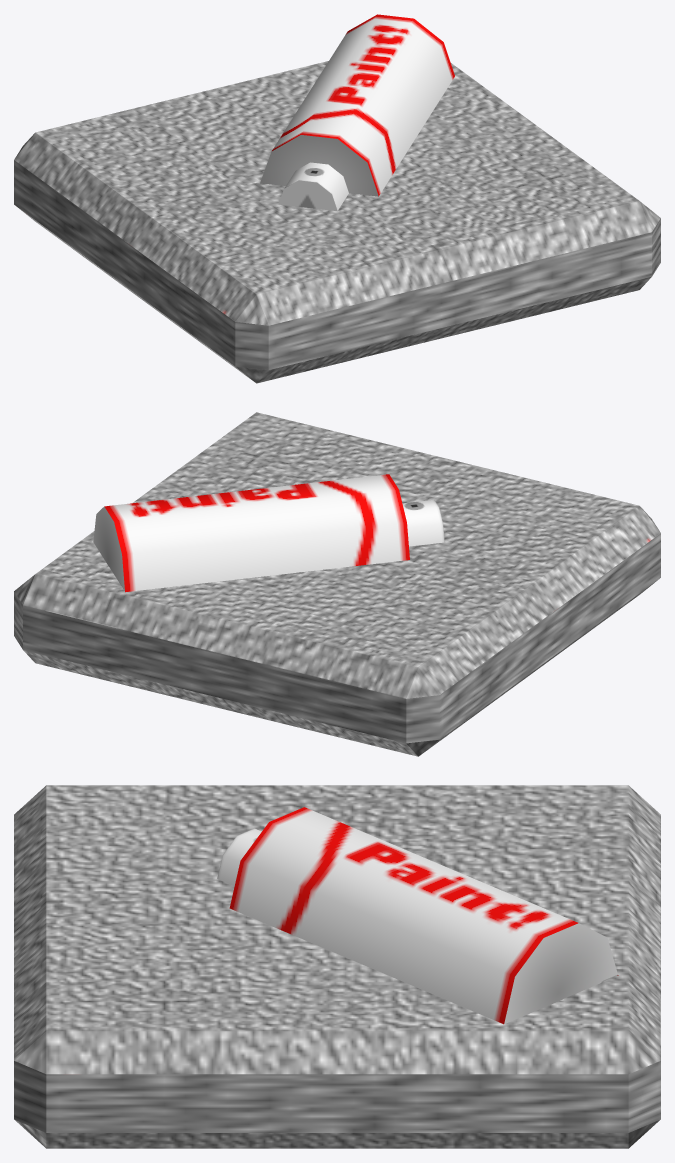
Rendered from Painter.FBX.
3 views of the same model, one above another, from view 1: azimuth 30°, elevation 25°; view 2: azimuth 150°, elevation 25°; view 3: azimuth 270°, elevation 25° (orthographic). The views are drawn at different scales.
Parts seen in each view (by area): view 1: Box01; view 2: Box01; view 3: Box01.
Boxes of the visible parts, <box> form: Box01: <box>14,14,660,383</box>; Box01: <box>14,412,660,756</box>; Box01: <box>14,785,660,1148</box>.
Bounding box in the file's own units: 7.87 × 2.51 × 7.87.
